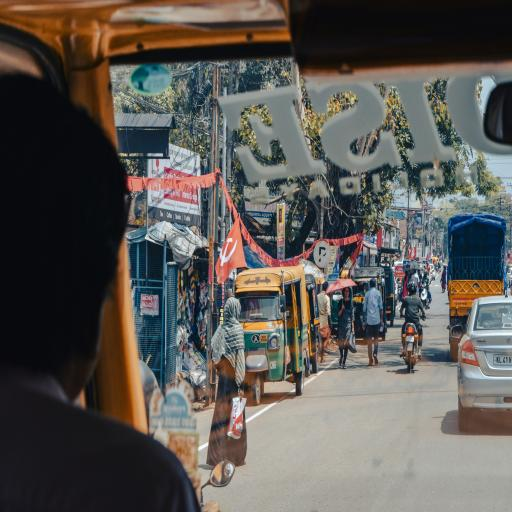Mini truck: (444, 212, 508, 339)
auto: (236, 268, 308, 404), (352, 267, 388, 343)
bike: (404, 324, 418, 374)
car: (463, 298, 512, 438)
